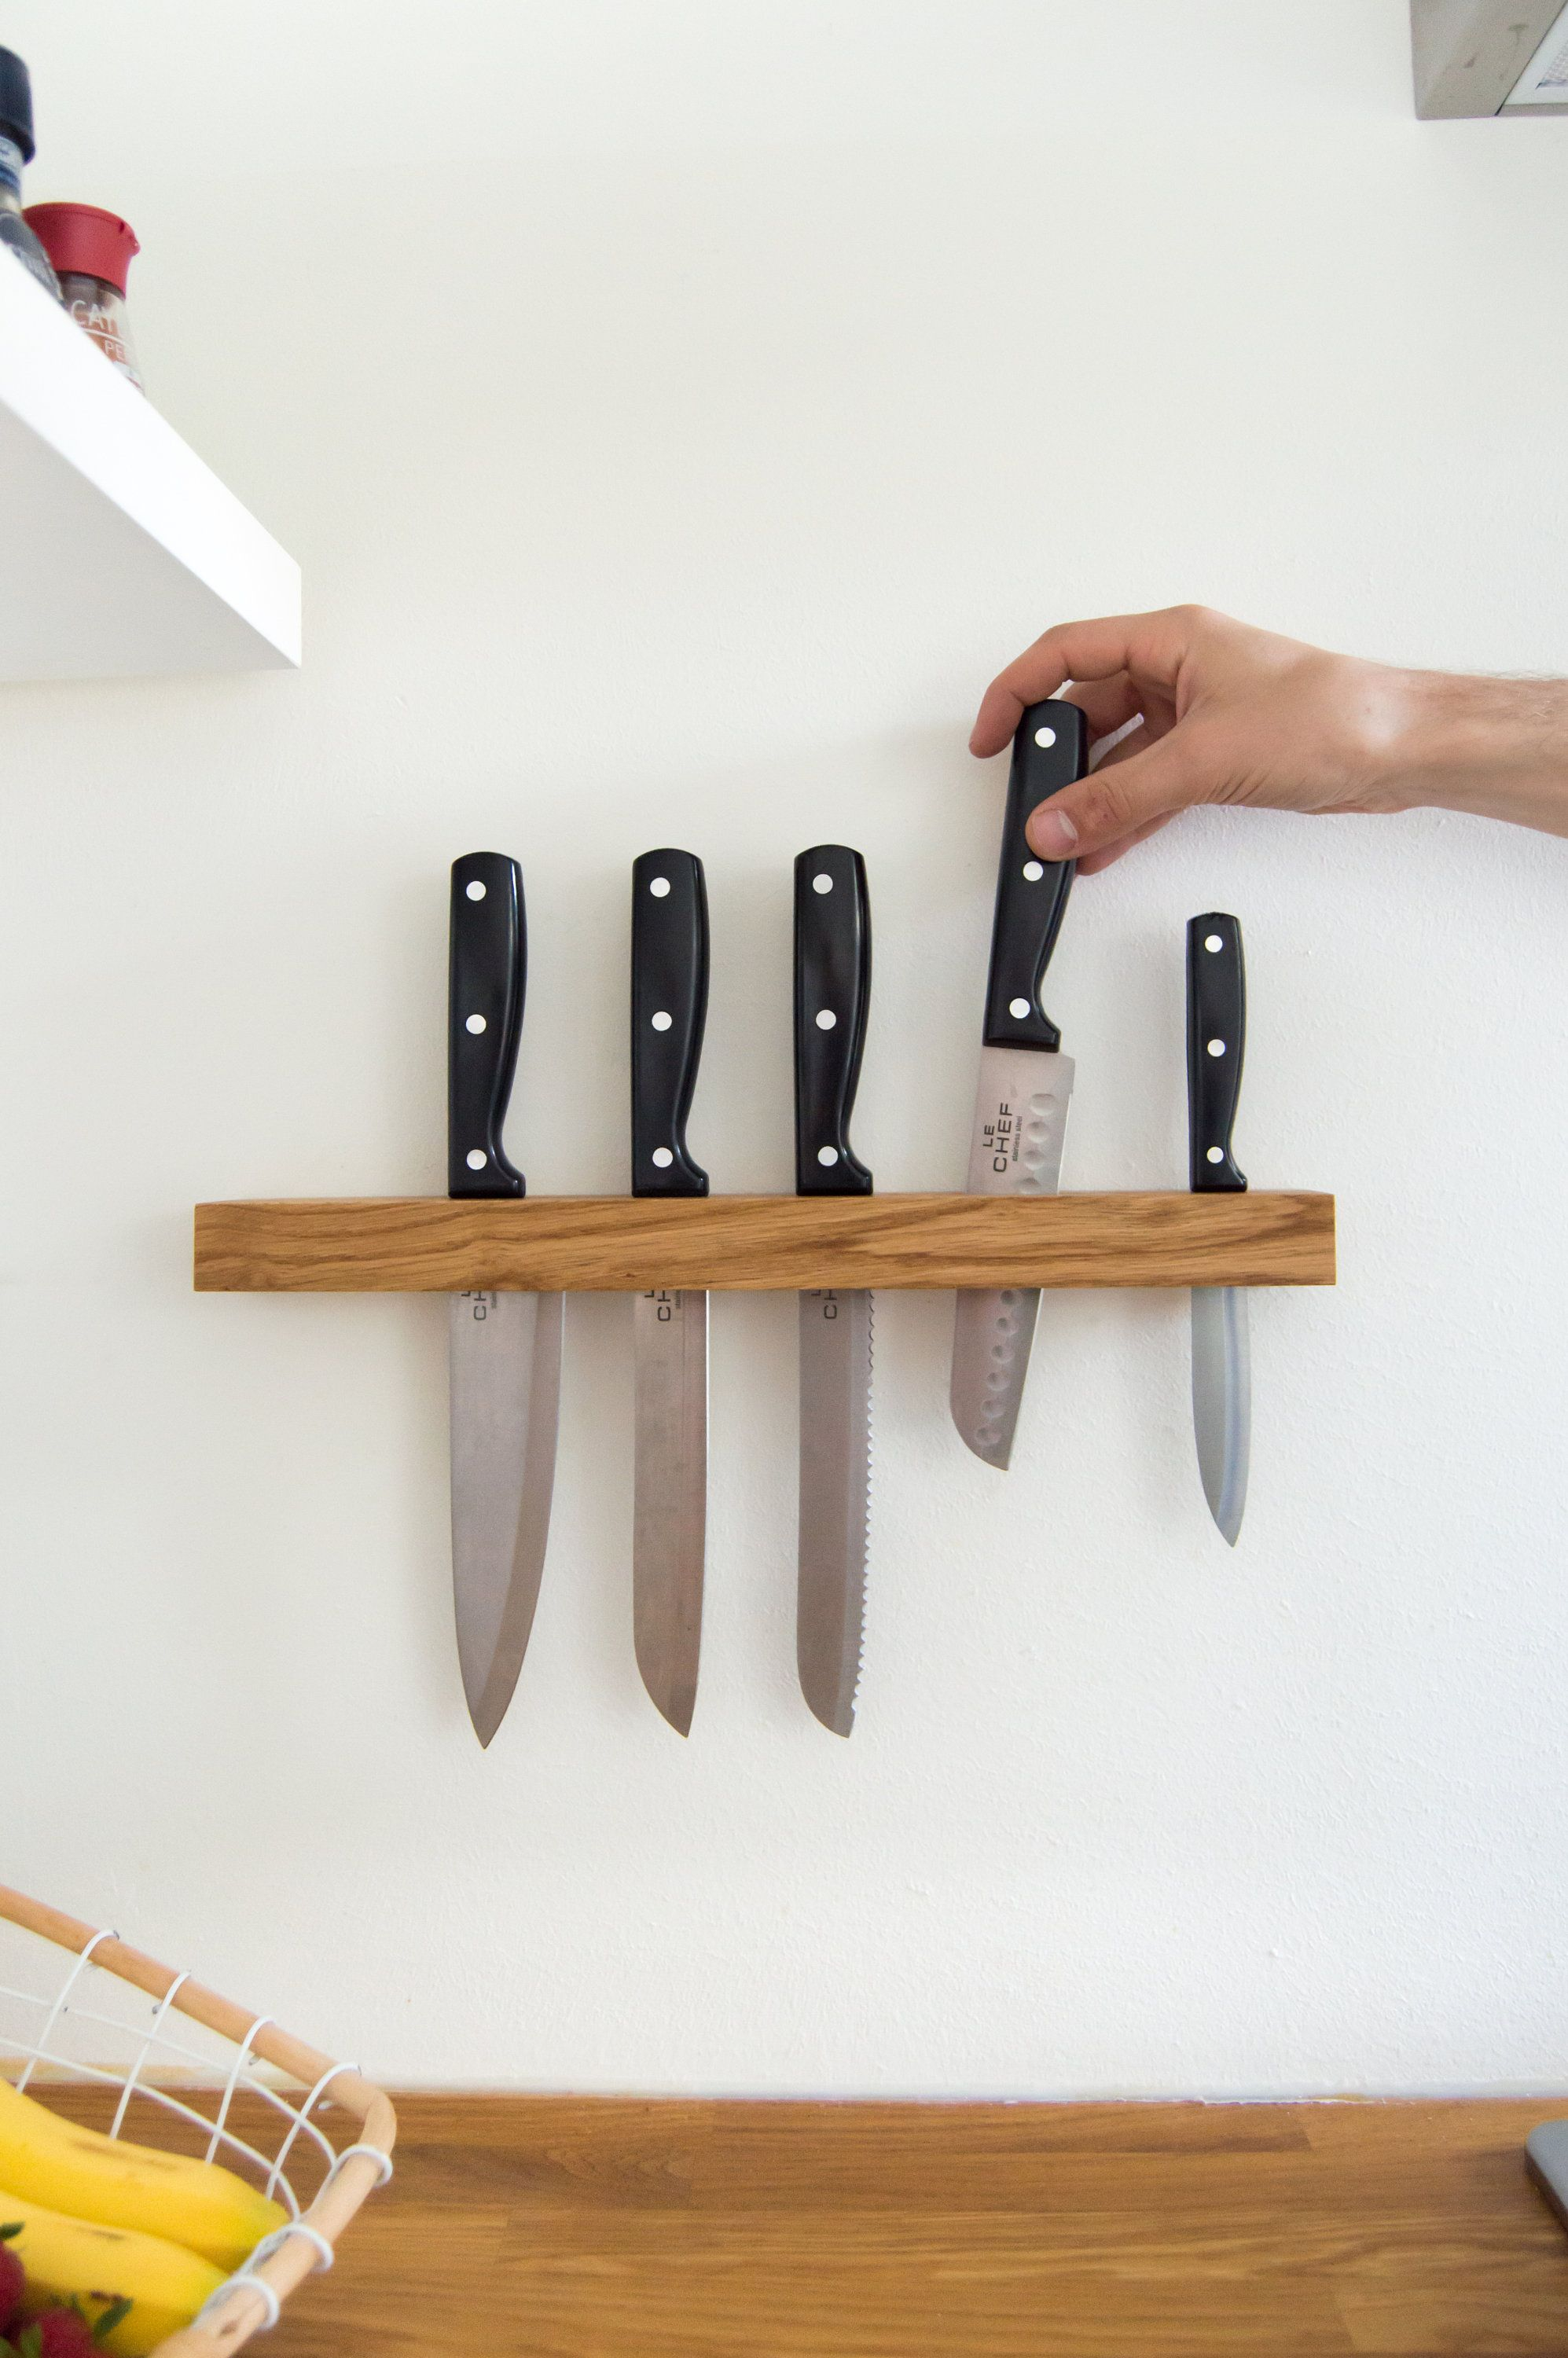knife: (441, 845, 574, 1772), (945, 696, 1097, 1485), (612, 838, 726, 1749), (786, 840, 877, 1741), (1176, 908, 1272, 1555)
